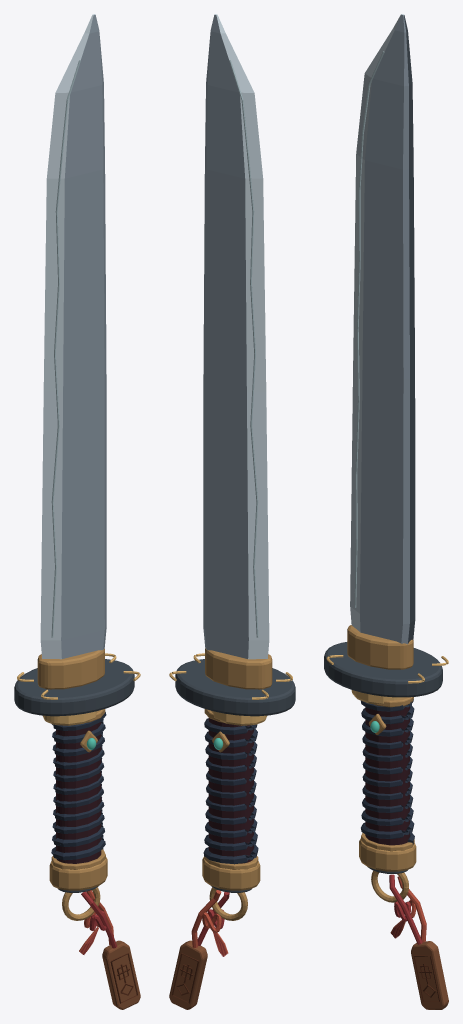
Rendered from joseon-hwando.glb.
3 renders of one model, left to right at view 1: azimuth 30°, elevation 25°; view 2: azimuth 150°, elevation 25°; view 3: azimuth 330°, elevation 25°, orthographic.
Parts seen in each view (by area): view 1: SW_JOSEON_HWANDO_MESH, HopaeCharmPivot_MESH; view 2: SW_JOSEON_HWANDO_MESH, HopaeCharmPivot_MESH; view 3: SW_JOSEON_HWANDO_MESH, HopaeCharmPivot_MESH.
Boxes of the visible parts, x1,y1,x2,y2 form: SW_JOSEON_HWANDO_MESH: (14, 14, 140, 920); HopaeCharmPivot_MESH: (79, 890, 140, 1009); SW_JOSEON_HWANDO_MESH: (169, 14, 295, 920); HopaeCharmPivot_MESH: (169, 890, 229, 1009); SW_JOSEON_HWANDO_MESH: (324, 14, 448, 902); HopaeCharmPivot_MESH: (389, 874, 448, 1009).
Size of the model in its own units: 0.1955 by 1.55 by 0.126.
